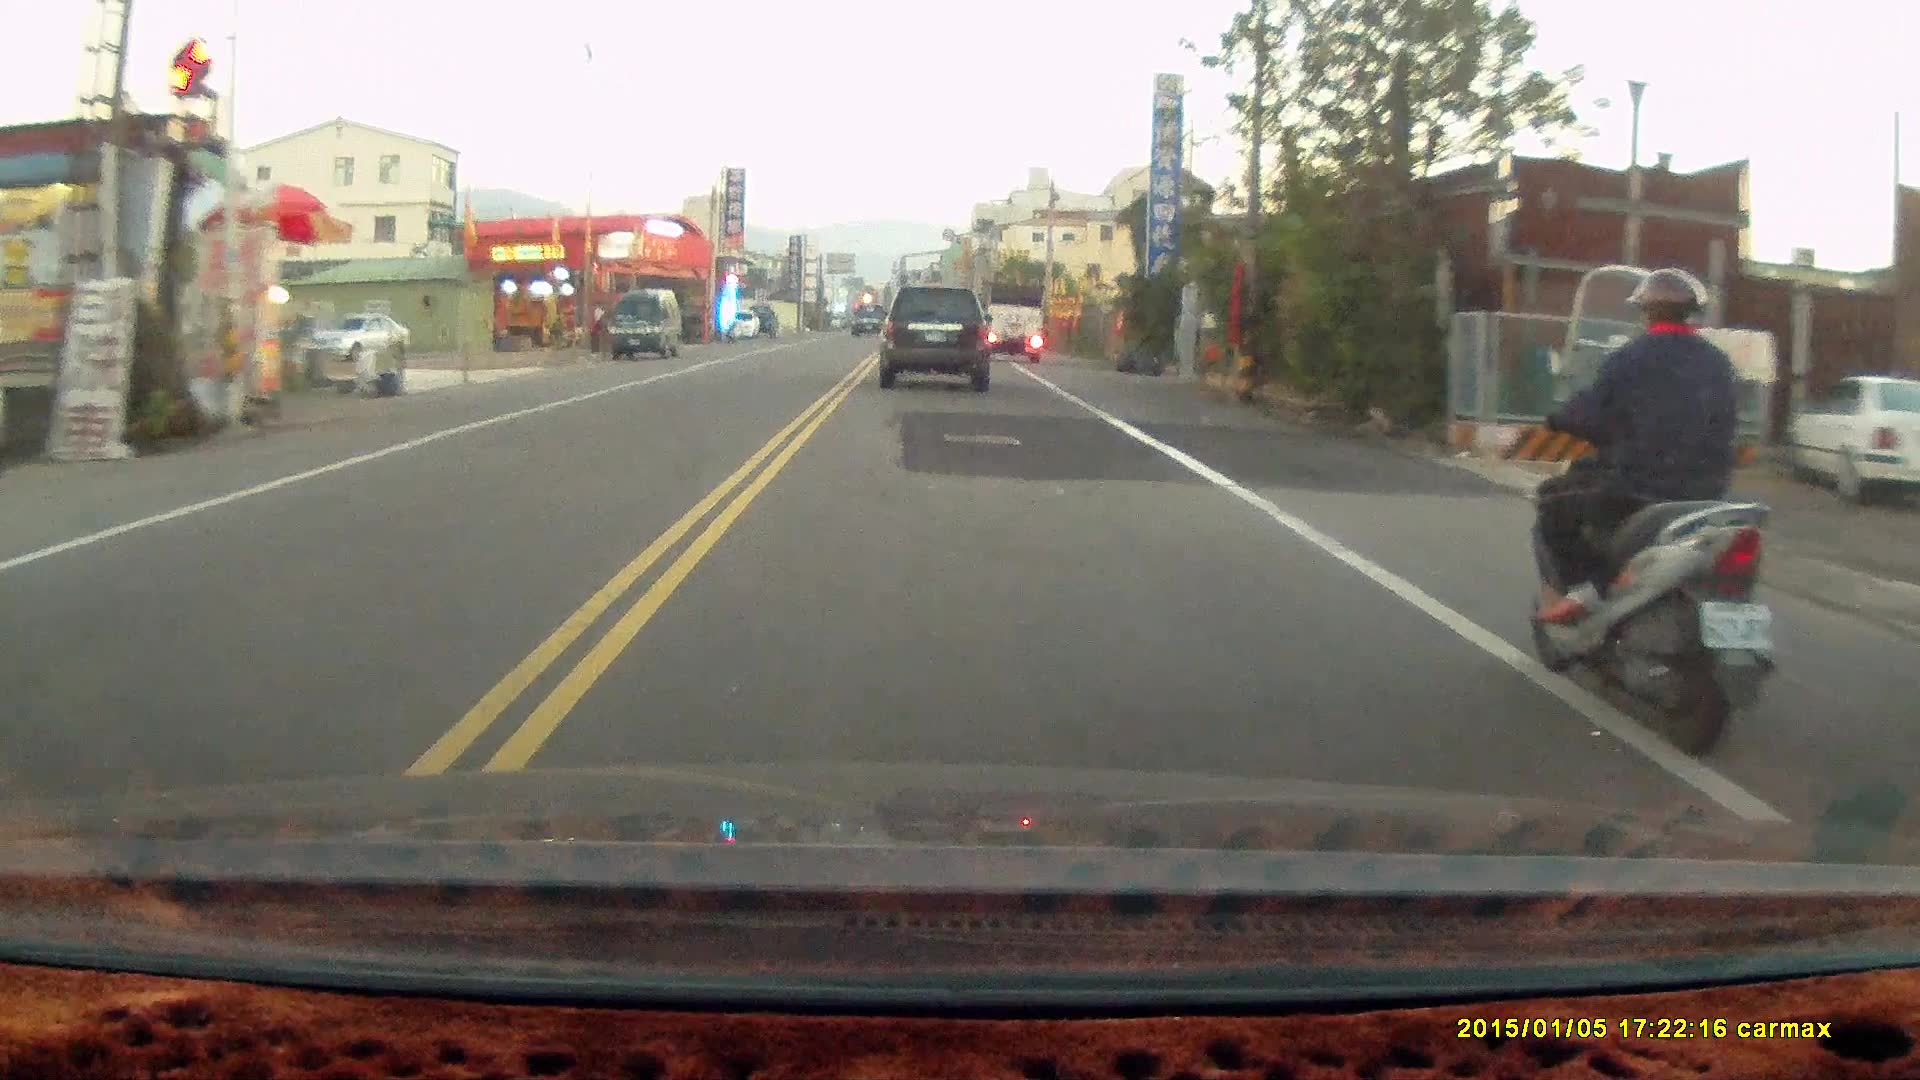rider: (1524, 263, 1775, 755)
vehicle: (879, 286, 995, 396), (607, 291, 682, 364), (307, 313, 411, 361), (985, 280, 1047, 360)
